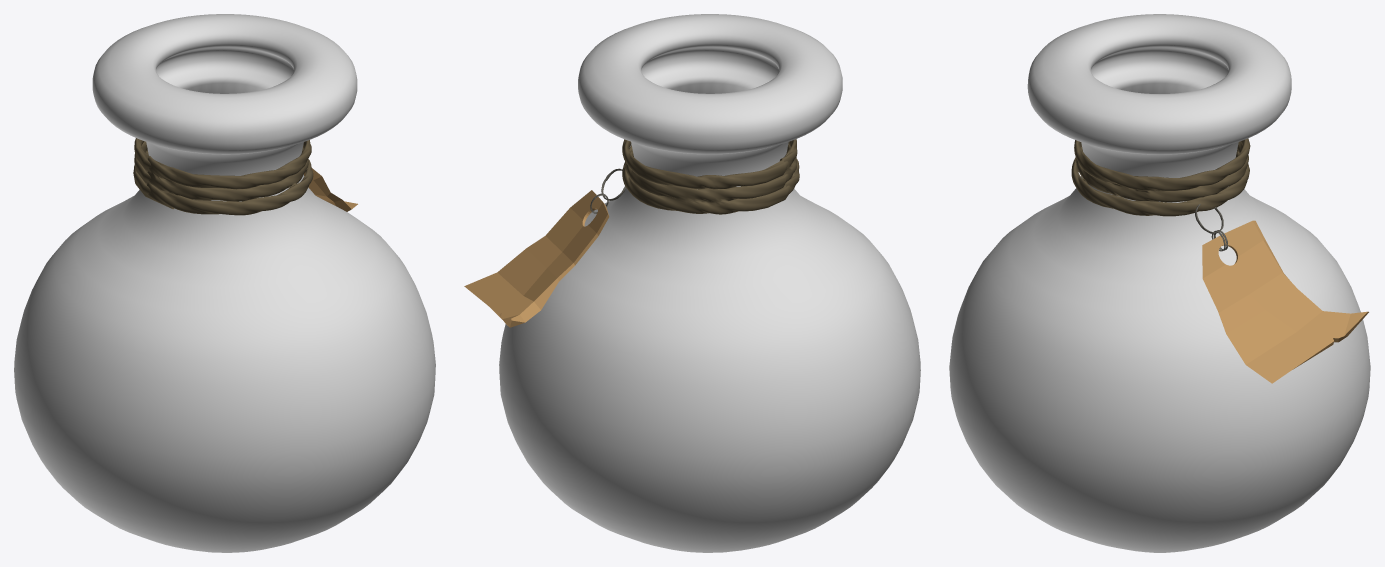
The model's file is BasicFlask.fbx.
3 renders of one model, left to right at view 1: azimuth 30°, elevation 25°; view 2: azimuth 150°, elevation 25°; view 3: azimuth 270°, elevation 25°, orthographic.
Visible parts, largest first — view 1: Flask, Strap, Tag; view 2: Flask, Strap, Tag; view 3: Flask, Tag, Strap.
Boxes of the visible parts, x1,y1,x2,y2 form: Flask: [14, 14, 435, 552]; Strap: [133, 138, 313, 215]; Tag: [304, 168, 357, 211]; Flask: [499, 14, 920, 552]; Strap: [590, 139, 799, 214]; Tag: [464, 190, 609, 327]; Flask: [949, 14, 1370, 552]; Tag: [1202, 220, 1368, 383]; Strap: [1071, 138, 1250, 251].
Size of the model in its own units: 1.83 by 2.17 by 1.79.
